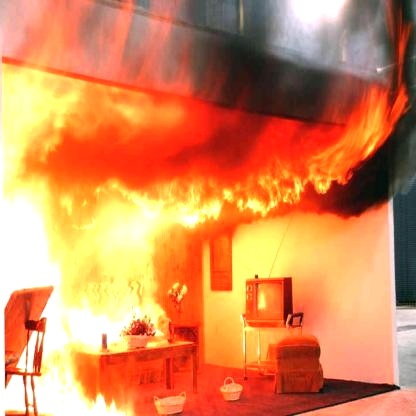fire: (0, 59, 407, 393)
